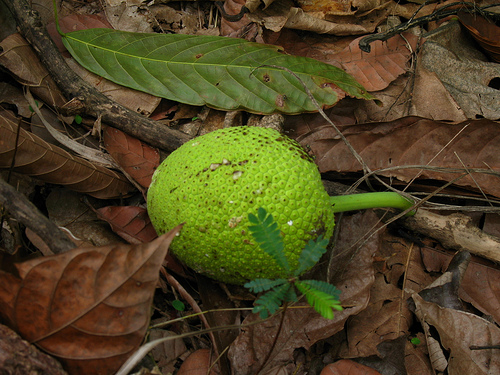jackfruit: (146, 125, 334, 291)
